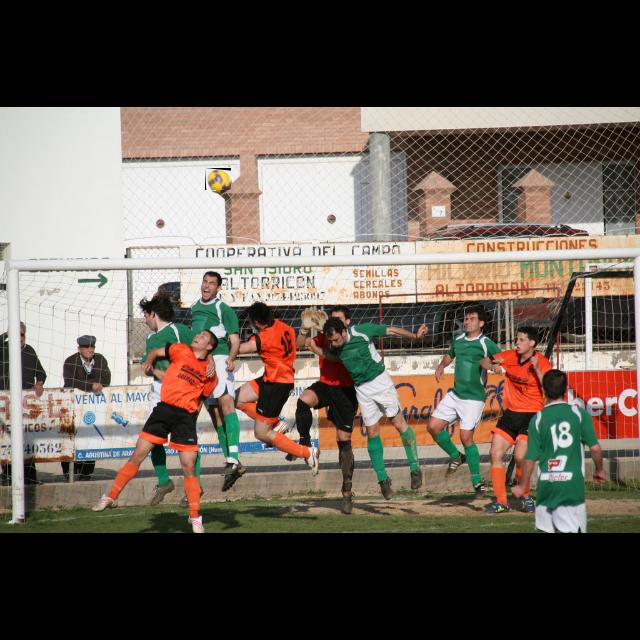Football: (205, 168, 231, 190)
